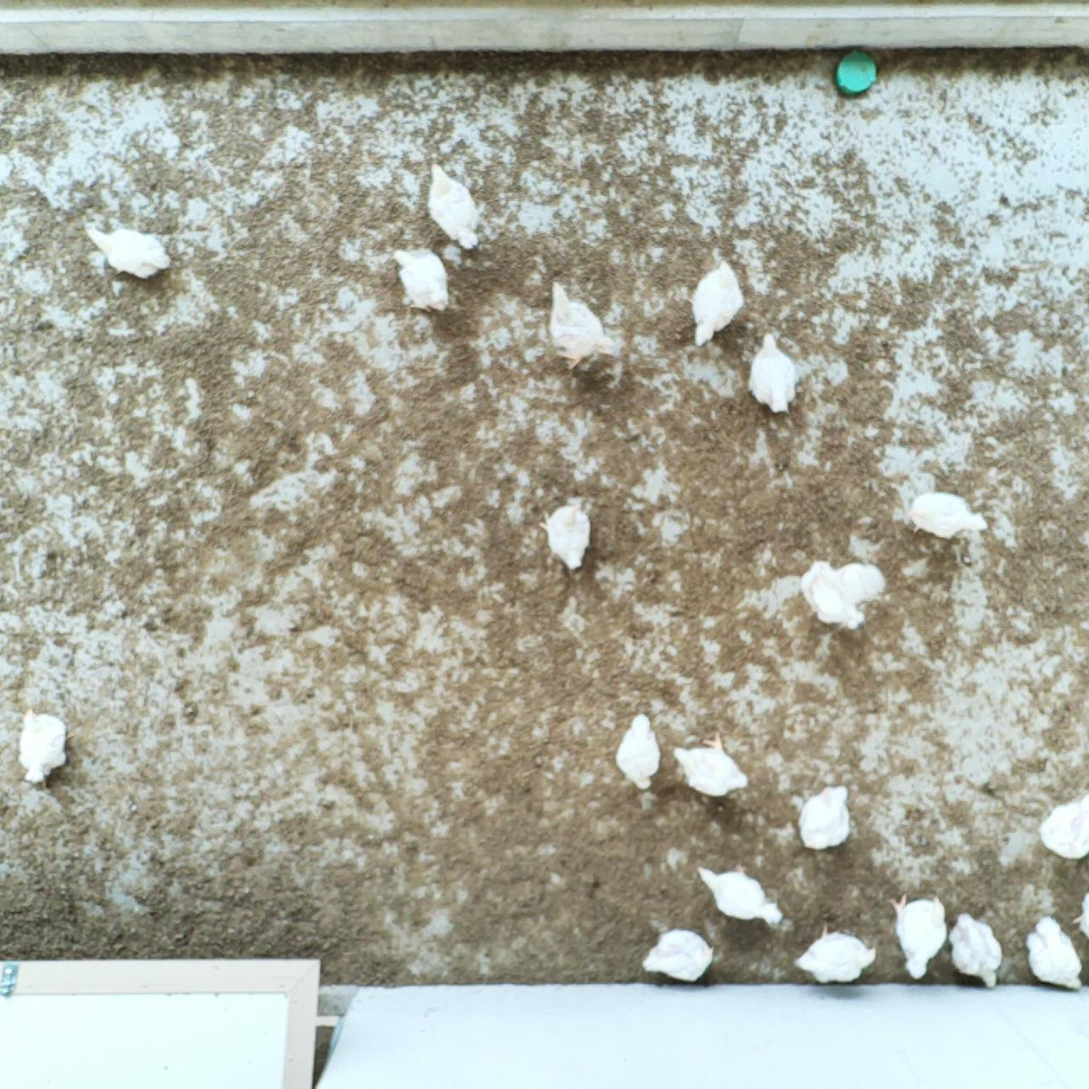chicken: (542, 276, 621, 371), (694, 856, 785, 927), (792, 918, 879, 988), (83, 220, 173, 285), (887, 886, 949, 980), (671, 728, 752, 799), (687, 257, 744, 354), (1022, 911, 1085, 993), (425, 161, 482, 251), (16, 704, 75, 790), (747, 329, 803, 418), (536, 492, 596, 574), (388, 240, 451, 315), (905, 486, 990, 540), (949, 909, 1005, 988), (641, 927, 717, 984), (801, 566, 865, 633), (613, 710, 664, 793), (794, 781, 854, 851), (1035, 786, 1089, 861), (834, 559, 886, 603)
